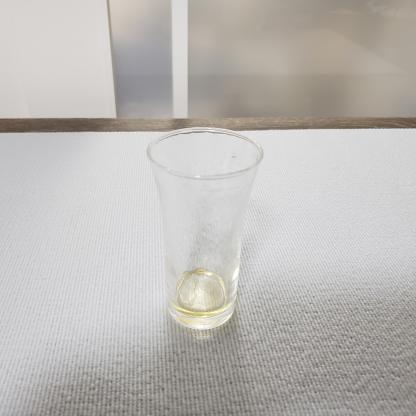glass: (141, 121, 275, 339)
